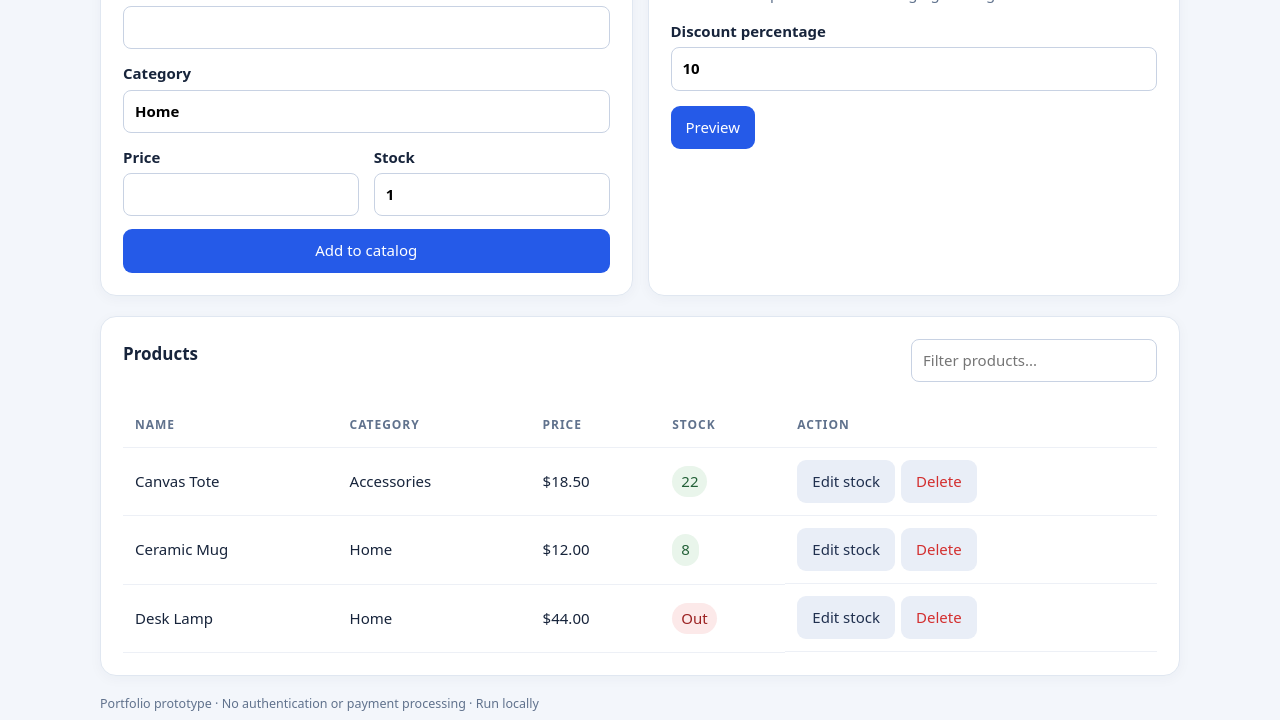
Scenario: Merchant Console App Component › filters merchant products by search query across name and category
(page scrolled)
Expected: the text "Canvas Tote" is shown, [123,447,338,516]
// Search by product name
Type "Canvas" into the field named "filter catalog" at (1034, 360), box [911,339,1157,382]
(page scrolled)
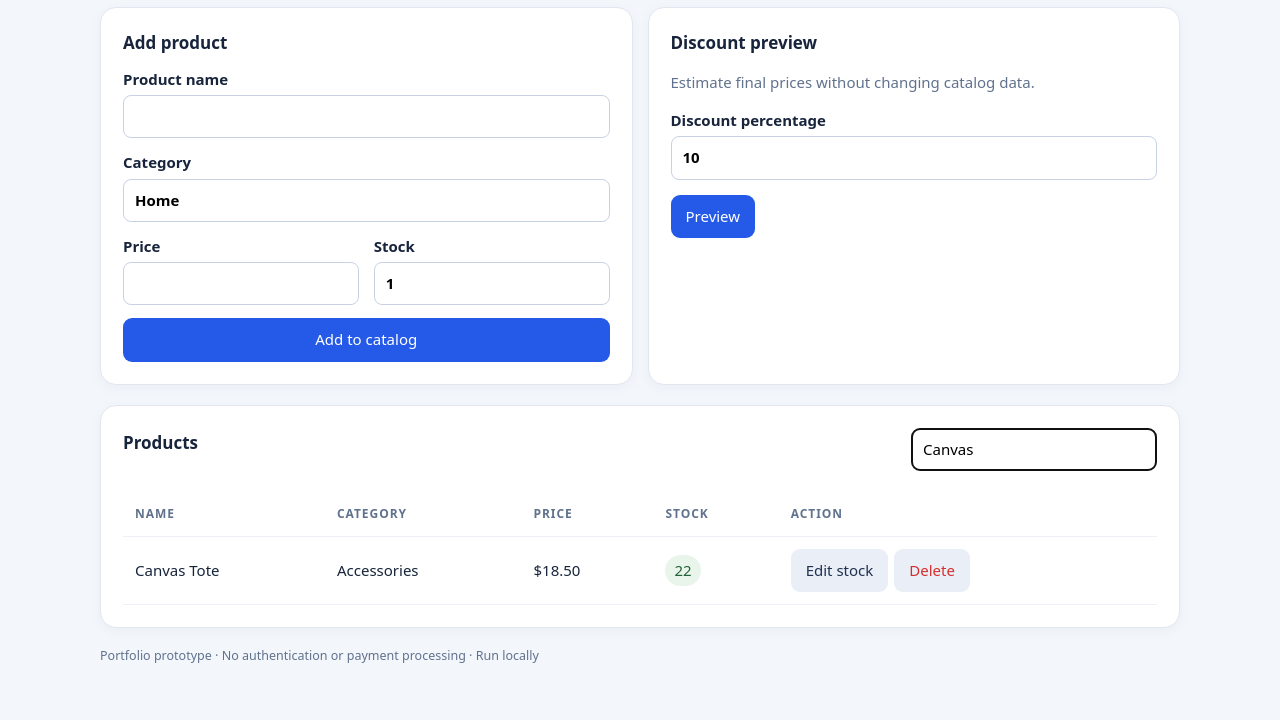
Expected: the text "Canvas Tote" is shown, [123,536,325,605]
Result: the text "Ceramic Mug" is gone
Result: the text "Desk Lamp" is gone
// Clear search and search by category
Clear the field named "filter catalog" at (1034, 449), box [911,428,1157,471]
(page scrolled)
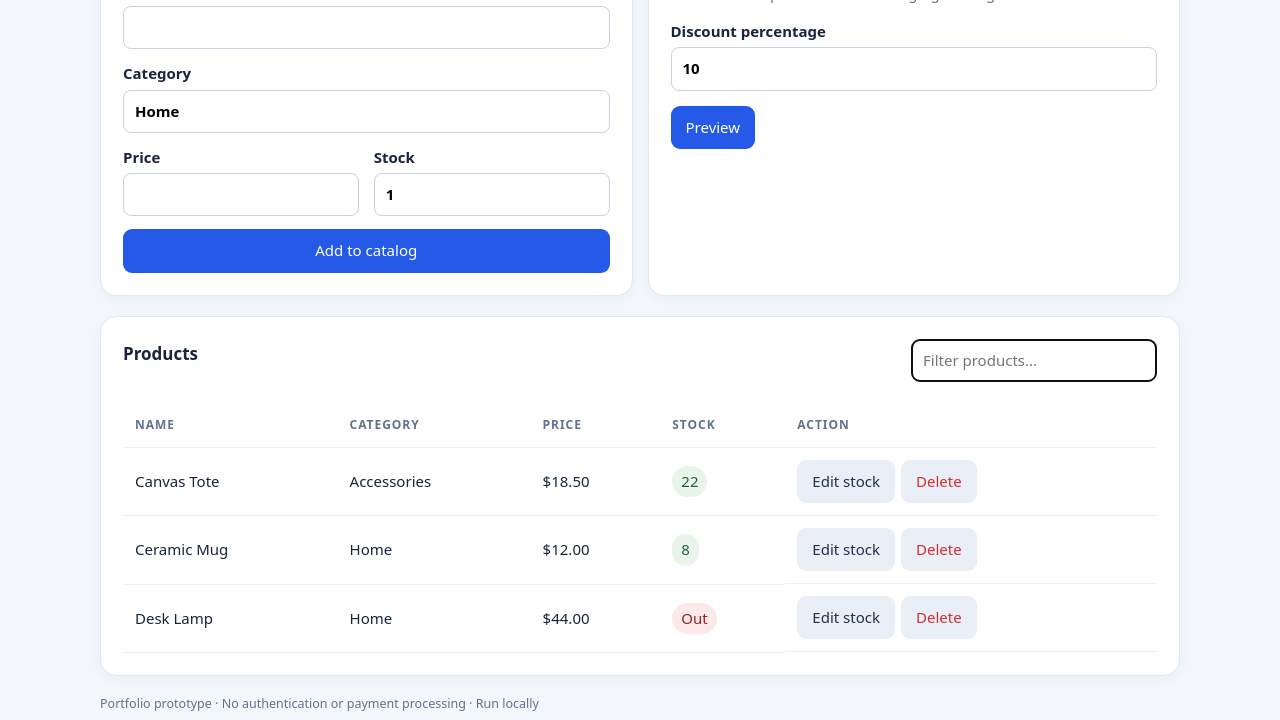
Type "Home" into the field named "filter catalog" at (1034, 360), box [911,339,1157,382]
(page scrolled)
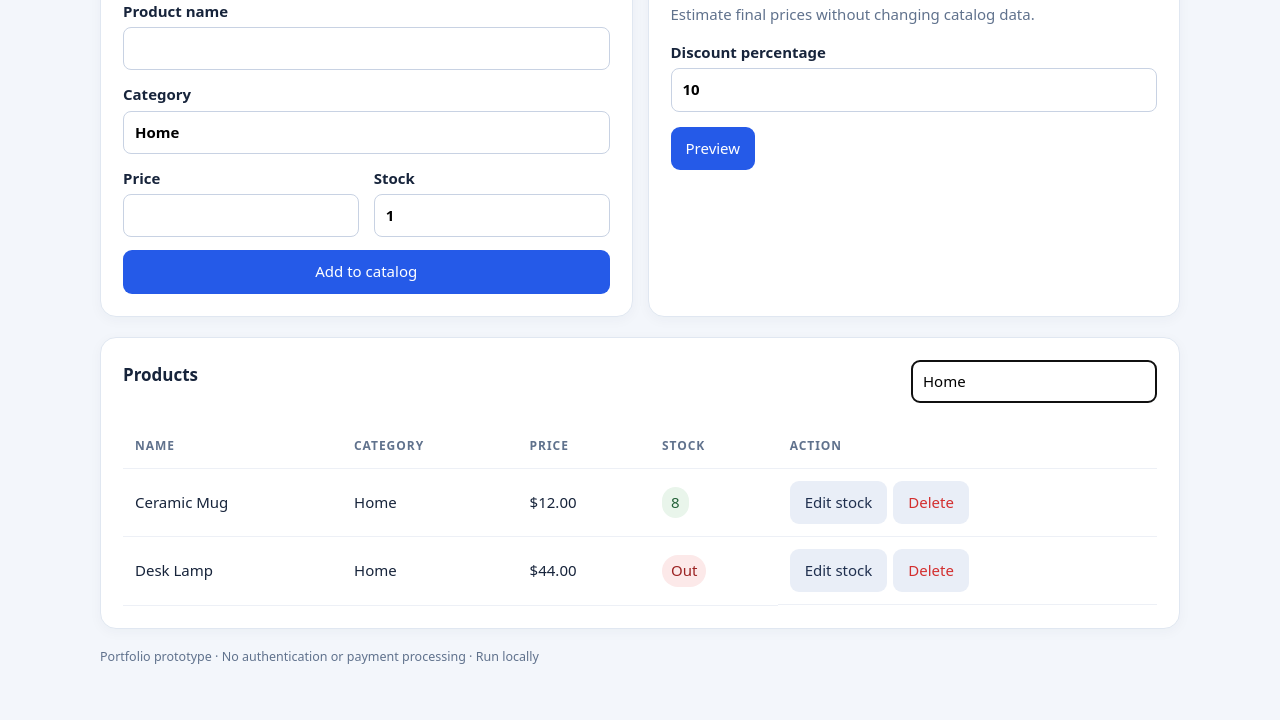
Result: the text "Ceramic Mug" is shown at [123,468,342,537]
Result: the text "Desk Lamp" is shown at [123,537,342,605]
Result: the text "Canvas Tote" is gone
// Search with no matches
Clear the field named "filter catalog" at (1034, 381), box [911,360,1157,403]
(page scrolled)
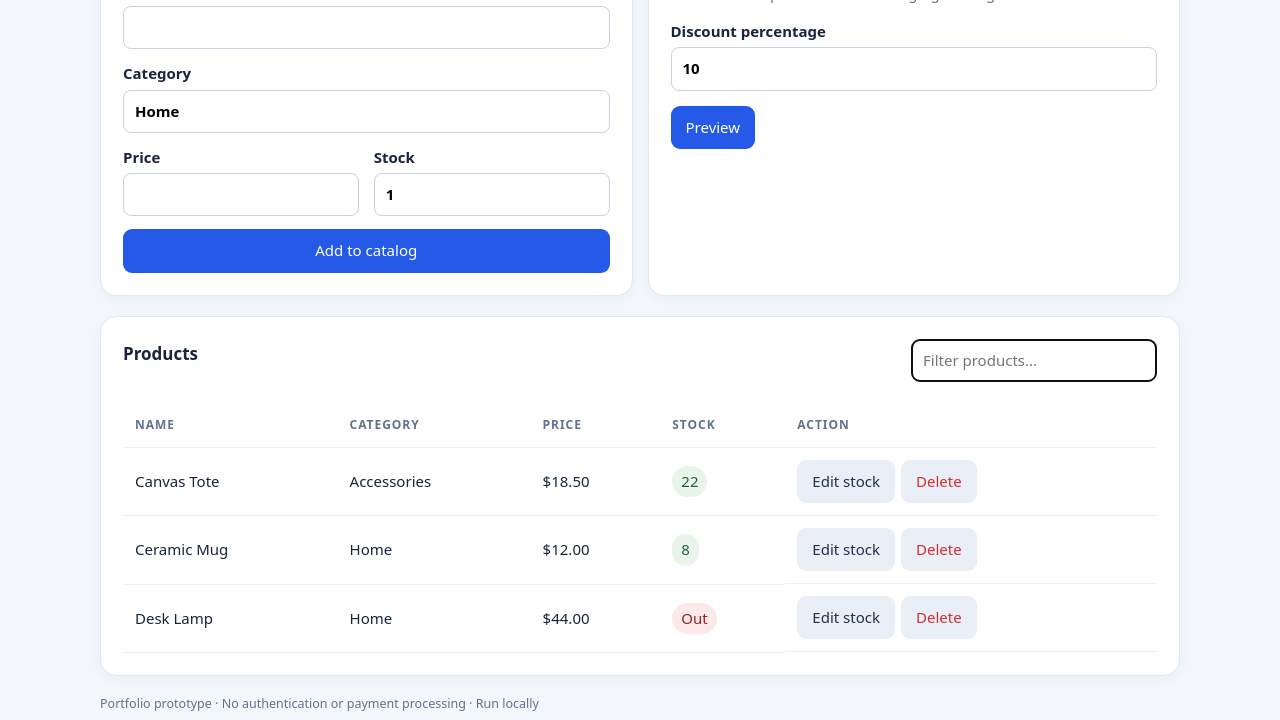
Type "ZzzNotExist" into the field named "filter catalog" at (1034, 360), box [911,339,1157,382]
(page scrolled)
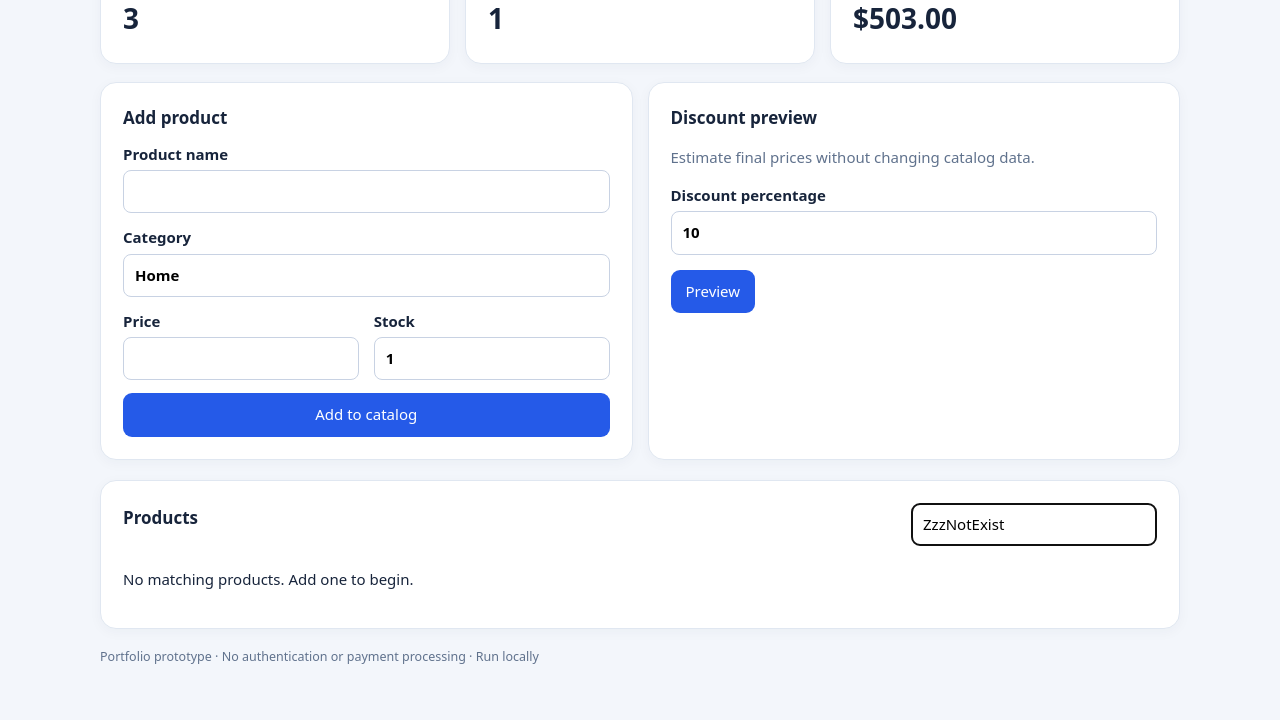
Result: the text "No matching products. Add one to begin." is shown at [123,569,414,589]
